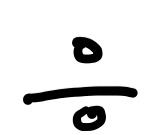div: (22, 36, 138, 128)
